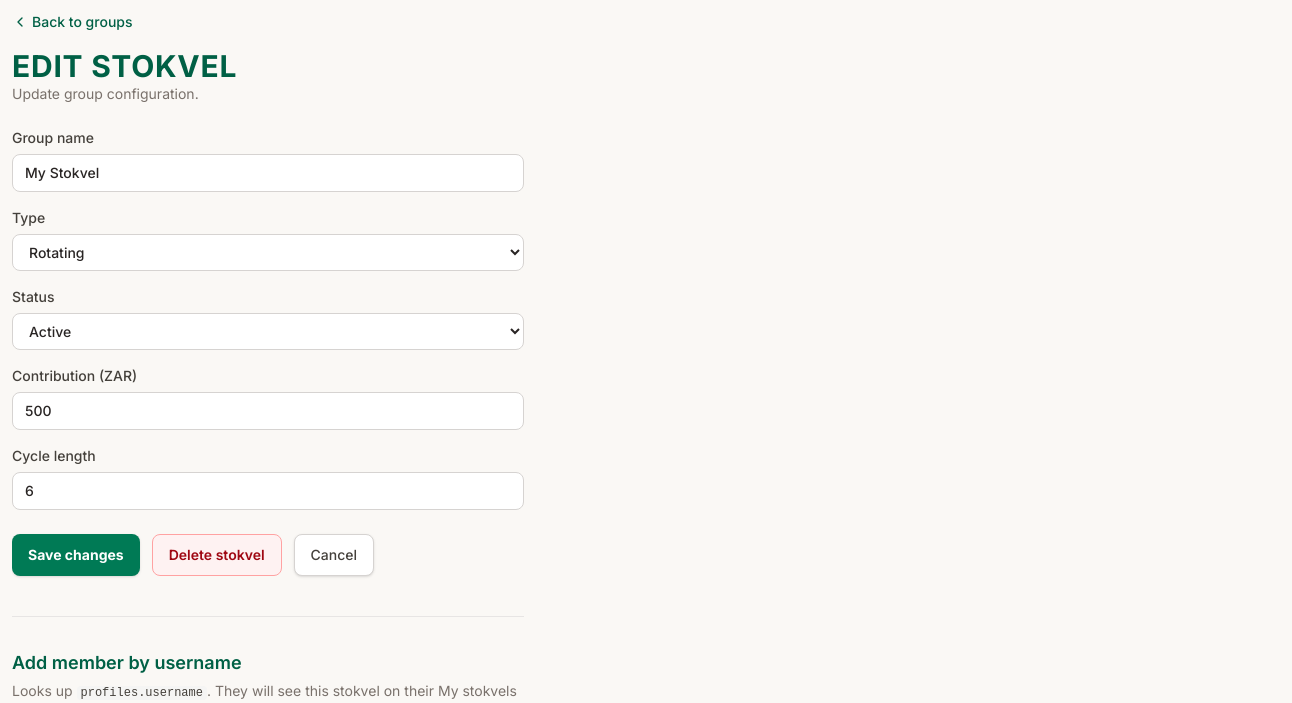
AdminEditStokvel › Delete Stokvel › handles delete error
Step 1. Click the button "Delete stokvel" → (217, 555), box x1=152 y1=534 x2=282 y2=576
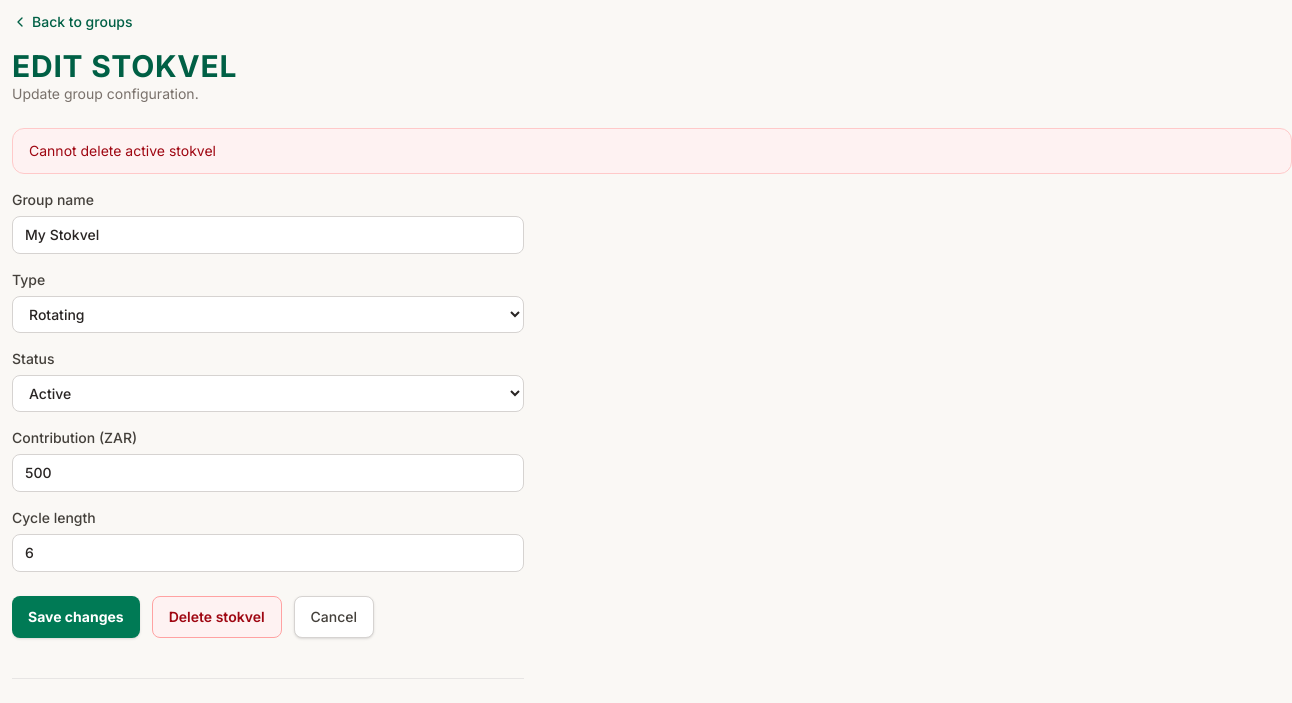
Expected: the text "Cannot delete active stokvel" is shown, x1=12 y1=128 x2=1291 y2=174
